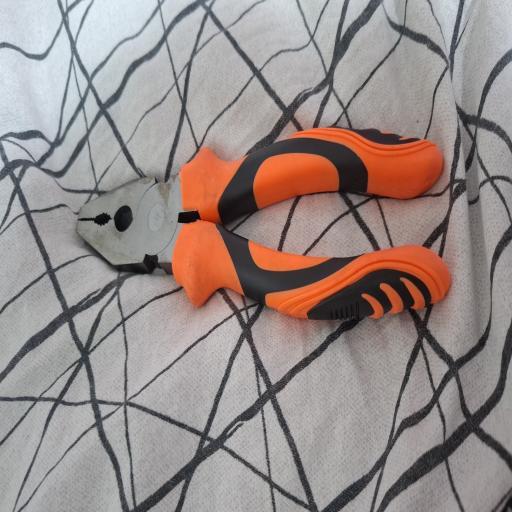alicate: (73, 126, 454, 327)
